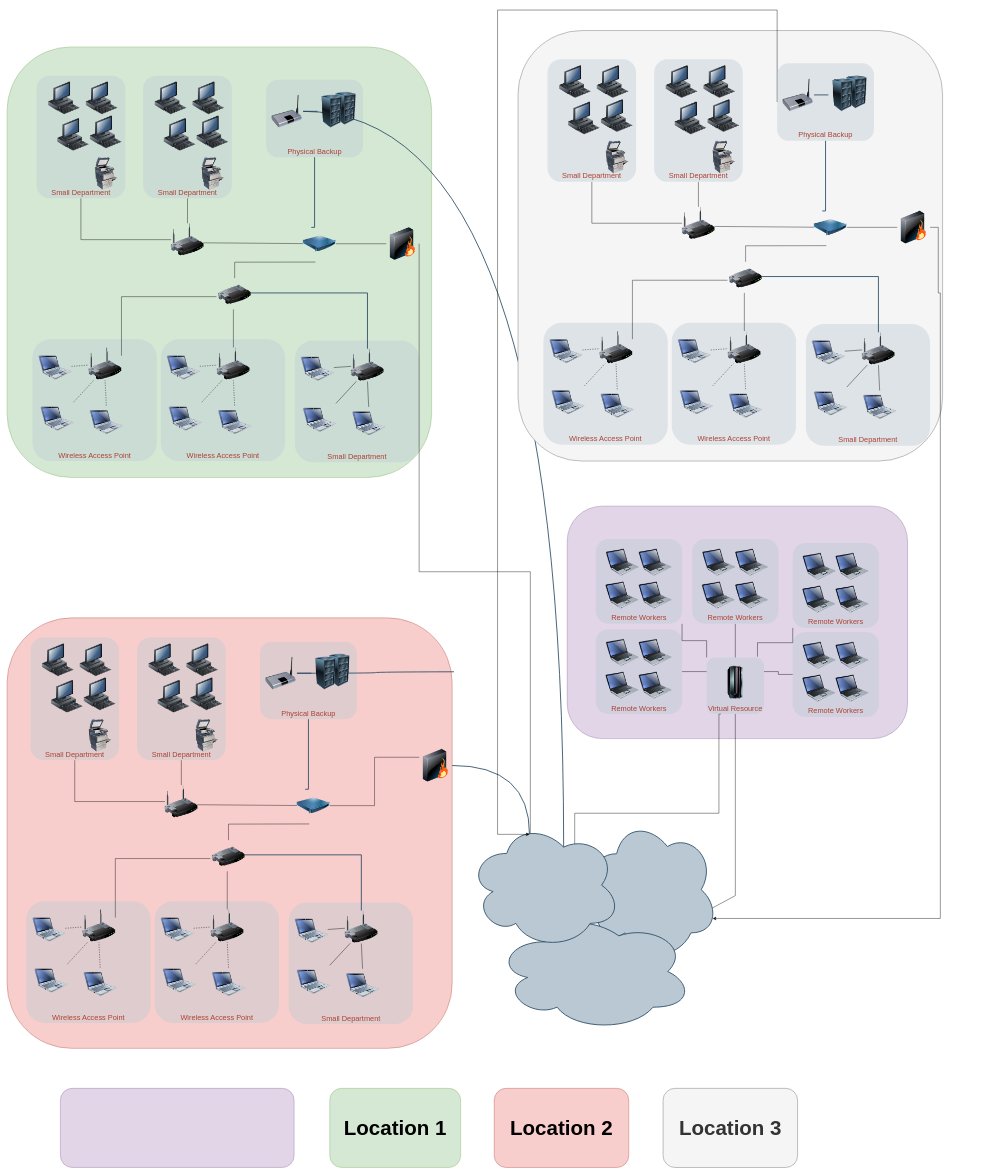
Some shapes in this 992 by 1175 pixel diagram are drawn without their labels. The centre of each missing label's shape, as x and y in pixels:
"Cloud (SaaS)" belongs at pixel 650 889.
"Cloud Database Backup" belongs at pixel 544 885.
"Internet" belongs at pixel 594 971.
"Remote Location" belongs at pixel 177 1127.
